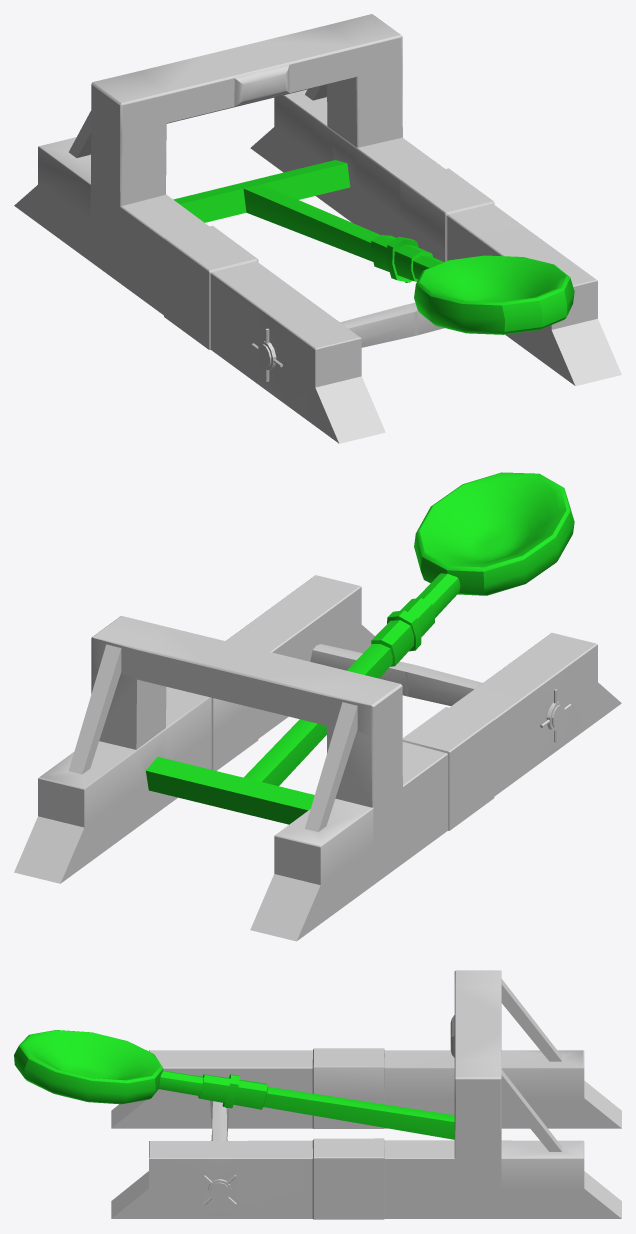
Rendered from Catapult.fbx.
3 views of the same model, one above another, from view 1: azimuth 30°, elevation 25°; view 2: azimuth 150°, elevation 25°; view 3: azimuth 270°, elevation 25° (orthographic). The views are drawn at different scales.
Parts seen in each view (by area): view 1: Cube.004, Cube.001; view 2: Cube.004, Cube.001; view 3: Cube.004, Cube.001.
Boxes of the visible parts, bbox=[...] form: Cube.004: bbox=[14, 14, 621, 443]; Cube.001: bbox=[173, 160, 574, 334]; Cube.004: bbox=[14, 575, 621, 941]; Cube.001: bbox=[146, 472, 574, 824]; Cube.004: bbox=[111, 970, 621, 1219]; Cube.001: bbox=[14, 1030, 454, 1139].
Bounding box in the file's own units: 3.56 × 2.06 × 8.07.
